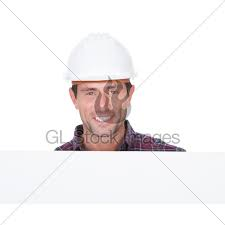Person_wearing_helmet: (69, 33, 129, 99)
